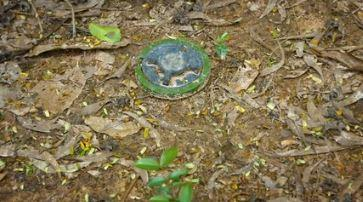pmn: (133, 36, 212, 101)
